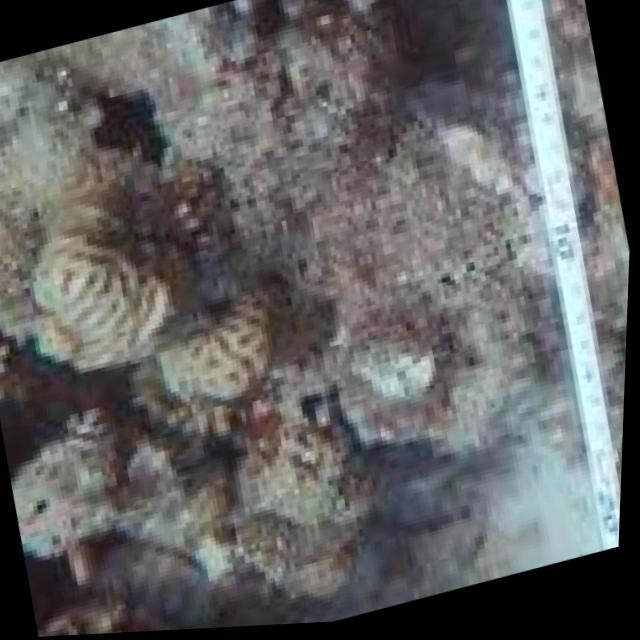Bleached Coral: (0, 147, 307, 466)
